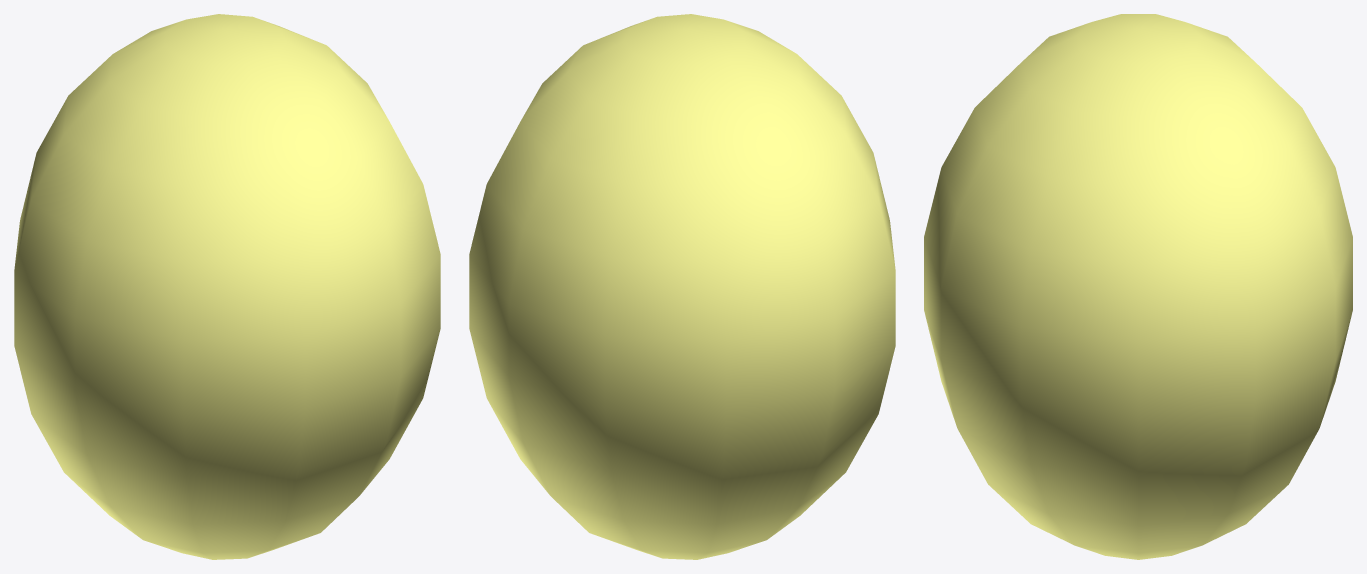
The model's file is aurifita_stage3.obj.
3 renders of one model, left to right at view 1: azimuth 30°, elevation 25°; view 2: azimuth 150°, elevation 25°; view 3: azimuth 270°, elevation 25°, orthographic.
Size of the model in its own units: 2.72 by 3.64 by 2.74.
